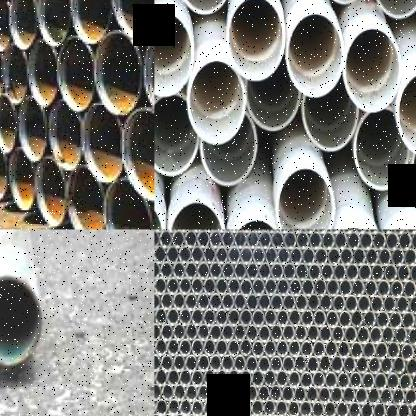pipe: (187, 58, 246, 145), (344, 26, 402, 113), (286, 12, 344, 97), (226, 0, 285, 81), (93, 27, 145, 118), (353, 107, 409, 191), (244, 52, 302, 131), (301, 72, 358, 152), (199, 112, 258, 186), (0, 272, 42, 367), (154, 92, 200, 176), (274, 168, 336, 230), (54, 32, 99, 114), (80, 104, 126, 184), (154, 9, 194, 96), (120, 107, 154, 203), (45, 97, 88, 172), (31, 156, 70, 230), (66, 163, 108, 229), (24, 37, 61, 109), (105, 178, 154, 229), (4, 143, 39, 212), (68, 0, 116, 46), (16, 95, 49, 161), (165, 198, 226, 230), (108, 0, 154, 40), (395, 70, 416, 157), (3, 41, 30, 107), (38, 0, 74, 44), (8, 0, 39, 51), (0, 91, 20, 152), (176, 0, 232, 15), (372, 0, 416, 19), (228, 216, 283, 230), (0, 0, 13, 54), (0, 142, 6, 202), (378, 245, 392, 267), (320, 262, 335, 282), (376, 278, 390, 299), (282, 292, 296, 313), (215, 244, 229, 265), (314, 246, 328, 266), (352, 246, 366, 266), (358, 262, 372, 282), (351, 278, 365, 298), (338, 278, 352, 298), (370, 294, 384, 314), (288, 308, 302, 328), (276, 308, 290, 328), (300, 308, 314, 328), (338, 309, 352, 329), (350, 309, 364, 329), (306, 323, 320, 343), (374, 340, 388, 360), (324, 370, 338, 390), (386, 371, 400, 391), (342, 385, 356, 405), (296, 230, 310, 250), (308, 230, 322, 250), (385, 231, 399, 251), (252, 245, 266, 265), (283, 261, 296, 282), (191, 276, 204, 297), (203, 276, 216, 297), (160, 291, 173, 312), (185, 291, 198, 312), (0, 45, 5, 99), (270, 262, 284, 281), (384, 263, 398, 282), (166, 276, 180, 295), (326, 278, 340, 297), (364, 279, 378, 298), (270, 293, 284, 312), (332, 294, 346, 313), (325, 309, 339, 328), (376, 310, 390, 329), (394, 326, 408, 345), (300, 339, 314, 358), (330, 355, 344, 374), (342, 355, 356, 374), (380, 356, 394, 375), (392, 356, 406, 375), (312, 370, 326, 389), (334, 231, 348, 250), (372, 231, 386, 250), (359, 231, 373, 250), (302, 246, 316, 265), (404, 245, 416, 267), (340, 246, 353, 266), (160, 260, 173, 280), (210, 260, 223, 280), (196, 260, 209, 280), (185, 260, 198, 280), (397, 263, 410, 283), (252, 277, 265, 297), (264, 277, 277, 297), (277, 277, 290, 297), (403, 279, 416, 299), (196, 292, 209, 312), (233, 292, 246, 312), (222, 292, 235, 312), (210, 292, 223, 312), (258, 292, 271, 312), (320, 293, 333, 313), (252, 308, 265, 328), (313, 308, 326, 328), (389, 310, 402, 330), (258, 323, 271, 343), (332, 324, 345, 344), (357, 325, 370, 345), (306, 354, 319, 374), (288, 369, 301, 389), (337, 370, 350, 390), (374, 371, 387, 391), (318, 385, 331, 405), (330, 385, 343, 405), (367, 386, 380, 406), (196, 229, 209, 249), (185, 229, 198, 249), (234, 229, 247, 249), (221, 229, 234, 249), (210, 229, 223, 249), (398, 231, 411, 251), (166, 244, 179, 264), (265, 245, 278, 265), (258, 262, 272, 280), (154, 308, 168, 326), (166, 308, 180, 326), (202, 308, 216, 326), (362, 341, 376, 359), (202, 369, 216, 387), (166, 369, 180, 387), (158, 230, 172, 248), (322, 230, 334, 251), (154, 243, 166, 264), (222, 261, 235, 280), (246, 262, 259, 281), (308, 262, 321, 281), (296, 262, 309, 281), (228, 277, 241, 296), (289, 278, 302, 297), (390, 279, 403, 298), (246, 293, 259, 312), (307, 293, 320, 312), (345, 294, 358, 313), (383, 295, 396, 314), (396, 295, 409, 314), (282, 323, 295, 342), (319, 324, 332, 343), (288, 339, 301, 358), (325, 339, 338, 358), (300, 370, 313, 389), (362, 371, 375, 390), (399, 372, 412, 391), (380, 387, 393, 406), (392, 387, 405, 406), (259, 230, 272, 249), (246, 230, 259, 249), (271, 230, 284, 249), (347, 231, 360, 250), (191, 245, 204, 264), (203, 245, 216, 264), (228, 245, 241, 264), (277, 246, 290, 265), (328, 246, 340, 266), (366, 246, 378, 266), (392, 247, 404, 267), (334, 262, 346, 282), (346, 262, 358, 282), (154, 275, 166, 295), (240, 277, 252, 297), (358, 294, 370, 314), (264, 308, 276, 328), (382, 325, 394, 345), (370, 325, 382, 345), (388, 340, 400, 360), (368, 355, 380, 375), (350, 370, 362, 390), (301, 279, 315, 296), (166, 339, 180, 356), (215, 278, 228, 296), (191, 308, 204, 326), (215, 308, 228, 326), (227, 308, 240, 326), (233, 324, 246, 342), (197, 324, 210, 342), (161, 324, 174, 342), (270, 324, 283, 342), (209, 324, 222, 342), (294, 324, 307, 342), (222, 324, 235, 342), (191, 338, 204, 356), (239, 339, 252, 357), (215, 339, 228, 357), (313, 340, 326, 358), (252, 340, 265, 358), (350, 341, 363, 359), (222, 354, 235, 372), (209, 354, 222, 372), (270, 355, 283, 373), (245, 355, 258, 373), (356, 356, 369, 374), (227, 369, 240, 387), (222, 384, 235, 402), (209, 384, 222, 402), (233, 384, 246, 402), (269, 385, 282, 403), (167, 398, 180, 416), (372, 263, 384, 282), (180, 276, 192, 295), (314, 278, 326, 297), (296, 293, 308, 312), (364, 310, 376, 329), (402, 311, 414, 330), (356, 386, 368, 405), (179, 245, 191, 264), (240, 245, 252, 264), (290, 246, 302, 265), (262, 400, 276, 416), (202, 400, 216, 416), (336, 400, 350, 416), (246, 325, 259, 342), (203, 339, 216, 356), (227, 339, 240, 356), (155, 339, 168, 356), (264, 340, 277, 357), (276, 340, 289, 357), (196, 355, 209, 372), (185, 355, 198, 372), (160, 355, 173, 372), (233, 355, 246, 372), (282, 356, 295, 373), (258, 356, 271, 373), (155, 369, 168, 386), (215, 369, 228, 386), (263, 370, 276, 387), (173, 384, 186, 401), (197, 385, 210, 402), (185, 385, 198, 402), (245, 385, 258, 402), (294, 386, 307, 403), (155, 399, 168, 416), (227, 399, 240, 416), (239, 399, 252, 416), (191, 399, 204, 416), (299, 399, 312, 416), (295, 354, 306, 374), (180, 308, 192, 326), (240, 308, 252, 326), (344, 326, 356, 344), (179, 339, 191, 357), (338, 340, 350, 358), (402, 343, 414, 361), (173, 354, 185, 372), (318, 355, 330, 373), (180, 369, 192, 387), (276, 370, 288, 388), (162, 383, 174, 401), (258, 385, 270, 403), (404, 388, 416, 406), (172, 230, 184, 248), (284, 231, 296, 249), (348, 401, 362, 416), (235, 261, 246, 280), (251, 400, 264, 416), (173, 293, 185, 310), (192, 370, 204, 387), (252, 370, 264, 387), (240, 370, 252, 387), (282, 386, 294, 403), (306, 386, 318, 403), (180, 399, 192, 416), (216, 399, 228, 416), (405, 357, 416, 375), (360, 401, 373, 416), (172, 262, 184, 278), (186, 324, 198, 340), (173, 324, 185, 340), (276, 400, 288, 416), (288, 400, 300, 416), (312, 400, 324, 416), (373, 402, 386, 416), (324, 401, 336, 416), (407, 295, 416, 314), (407, 326, 416, 345), (386, 403, 399, 416), (398, 402, 410, 416), (154, 290, 161, 311), (409, 262, 416, 282), (154, 260, 160, 280), (154, 229, 160, 249), (410, 230, 416, 250), (154, 354, 161, 371), (154, 383, 161, 400), (410, 372, 416, 390), (154, 323, 160, 340), (409, 404, 416, 416), (328, 229, 342, 235), (392, 229, 406, 235), (354, 229, 366, 235), (380, 229, 392, 235), (190, 229, 204, 234), (302, 229, 316, 234), (366, 229, 380, 234), (405, 229, 416, 235), (240, 229, 253, 234), (265, 229, 278, 234), (315, 229, 328, 234), (341, 229, 354, 234), (253, 229, 265, 234), (278, 229, 290, 234), (290, 229, 302, 234), (413, 343, 416, 360), (414, 310, 416, 330), (174, 413, 186, 416)
